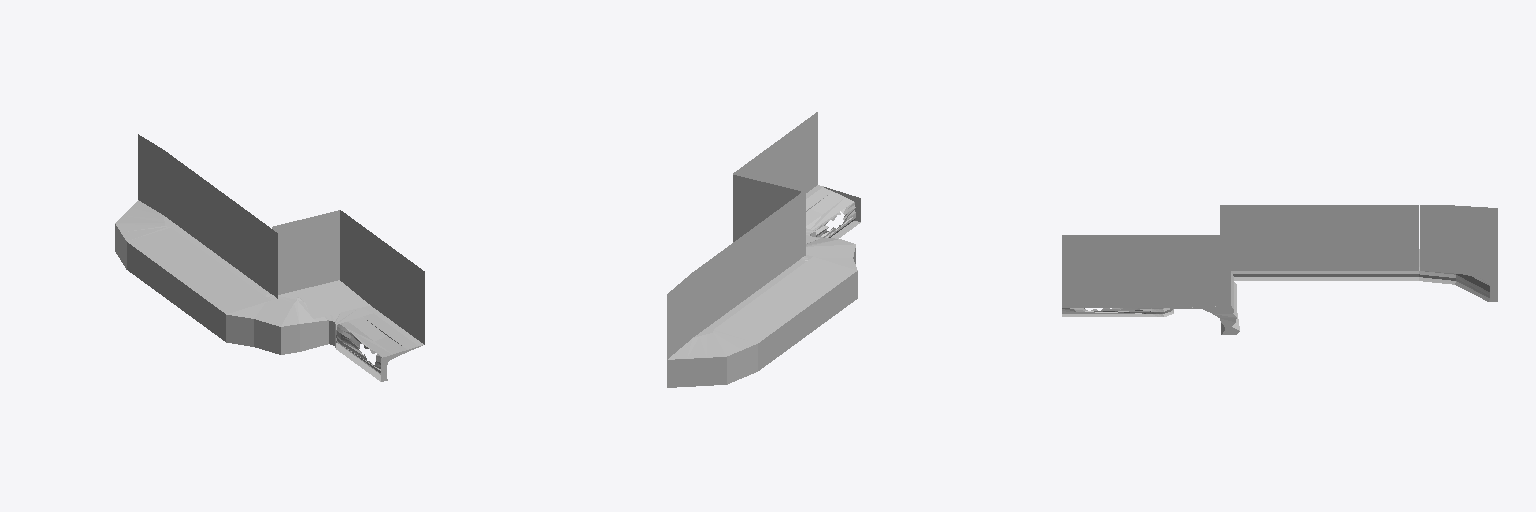
Rendered from wall_hole.obj.
3 views of the same model, side by side, from view 1: azimuth 30°, elevation 25°; view 2: azimuth 150°, elevation 25°; view 3: azimuth 270°, elevation 25° (orthographic).
Visible parts, largest first — view 1: Cube; view 2: Cube; view 3: Cube.
Part boxes in pixels (left/top/right/bottom): Cube: left=115, top=134, right=424, bottom=381; Cube: left=667, top=112, right=860, bottom=387; Cube: left=1062, top=205, right=1497, bottom=334.
Size of the model in its own units: 40.89 by 32.75 by 129.